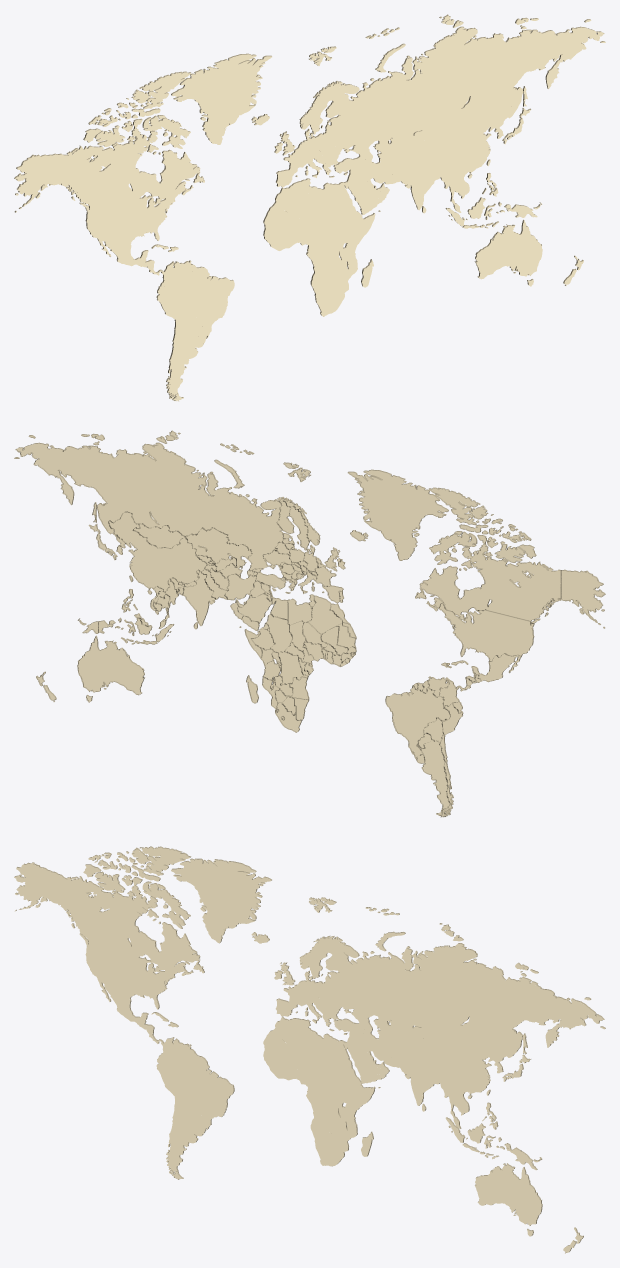
The model's file is world-map-vector.glb.
3 views of the same model, one above another, from view 1: azimuth 30°, elevation 25°; view 2: azimuth 150°, elevation 25°; view 3: azimuth 330°, elevation 25° (orthographic).
Parts seen in each view (by area): view 1: LandTop, RaisedLand; view 2: LandTop, RaisedLand; view 3: LandTop, RaisedLand.
Boxes of the visible parts, bbox=[...] form: LandTop: bbox=[15, 15, 605, 401]; RaisedLand: bbox=[14, 14, 604, 400]; LandTop: bbox=[15, 432, 604, 816]; RaisedLand: bbox=[14, 430, 605, 817]; LandTop: bbox=[14, 847, 604, 1253]; RaisedLand: bbox=[15, 846, 605, 1252].
Size of the model in its own units: 19.03 by 10.2 by 0.056.
